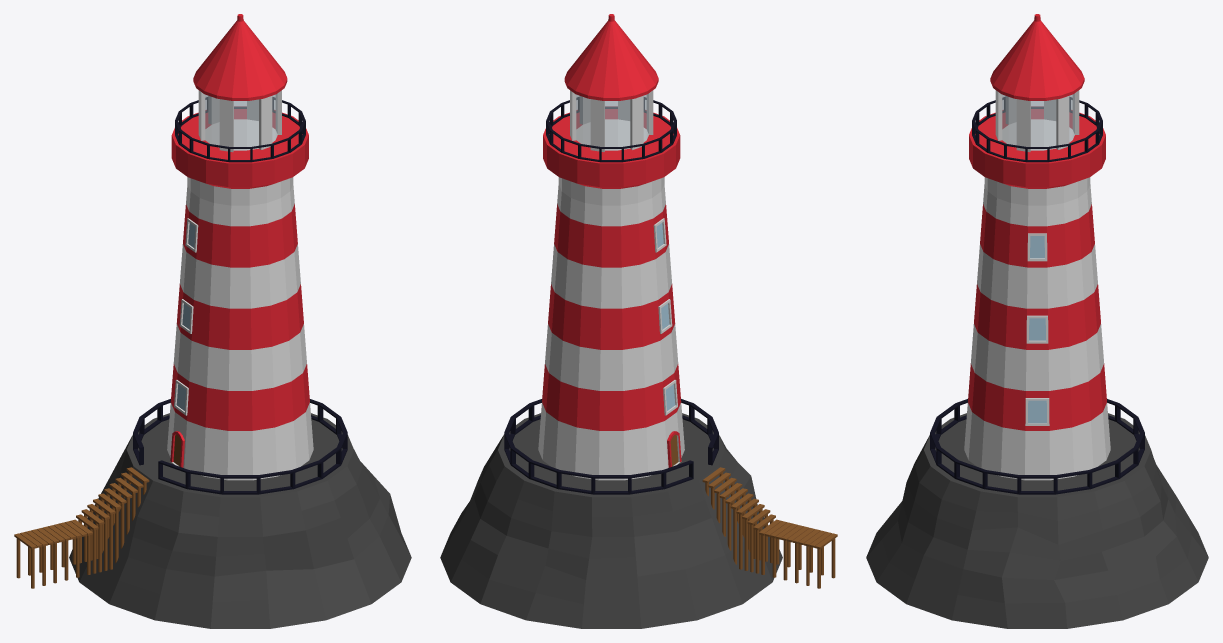
File: lighthouse.glb
3 renders of one model, left to right at view 1: azimuth 30°, elevation 25°; view 2: azimuth 150°, elevation 25°; view 3: azimuth 270°, elevation 25°, orthographic.
Parts seen in each view (by area): view 1: Cylinder, Cylinder.001, Cube.001, Cube; view 2: Cylinder, Cylinder.001, Cube.001, Cube; view 3: Cylinder.
Boxes of the visible parts, <box> form: Cylinder: <box>69,14,411,628</box>; Cylinder.001: <box>16,472,146,588</box>; Cube.001: <box>70,467,149,535</box>; Cube: <box>14,521,87,549</box>; Cylinder: <box>440,14,782,628</box>; Cylinder.001: <box>705,472,835,588</box>; Cube.001: <box>702,467,781,535</box>; Cube: <box>764,521,837,549</box>; Cylinder: <box>866,14,1208,628</box>.
Size of the model in its own units: 7.59 by 10.83 by 6.2.
